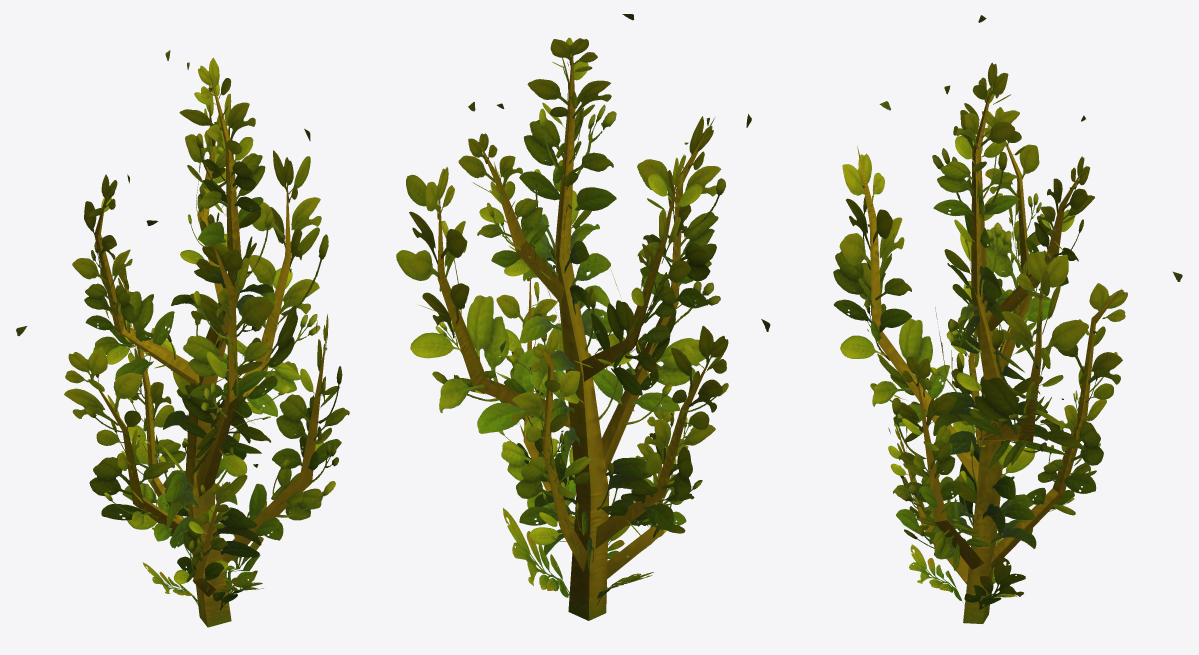
The model's file is Plant_zhiwu_tongyong_02.FBX.
The picture shows the model from 3 angles, left to right: view 1: azimuth 30°, elevation 25°; view 2: azimuth 150°, elevation 25°; view 3: azimuth 270°, elevation 25°; orthographic projection. The views are drawn at different scales.
Visible parts, largest first — view 1: Plant_zhiwu_tongyong_02; view 2: Plant_zhiwu_tongyong_02; view 3: Plant_zhiwu_tongyong_02.
Boxes of the visible parts, box(x1,y1,x2,y2) form: Plant_zhiwu_tongyong_02: box(16, 50, 349, 627); Plant_zhiwu_tongyong_02: box(396, 14, 770, 620); Plant_zhiwu_tongyong_02: box(833, 15, 1182, 623).
Size of the model in its own units: 137 by 226 by 131.
